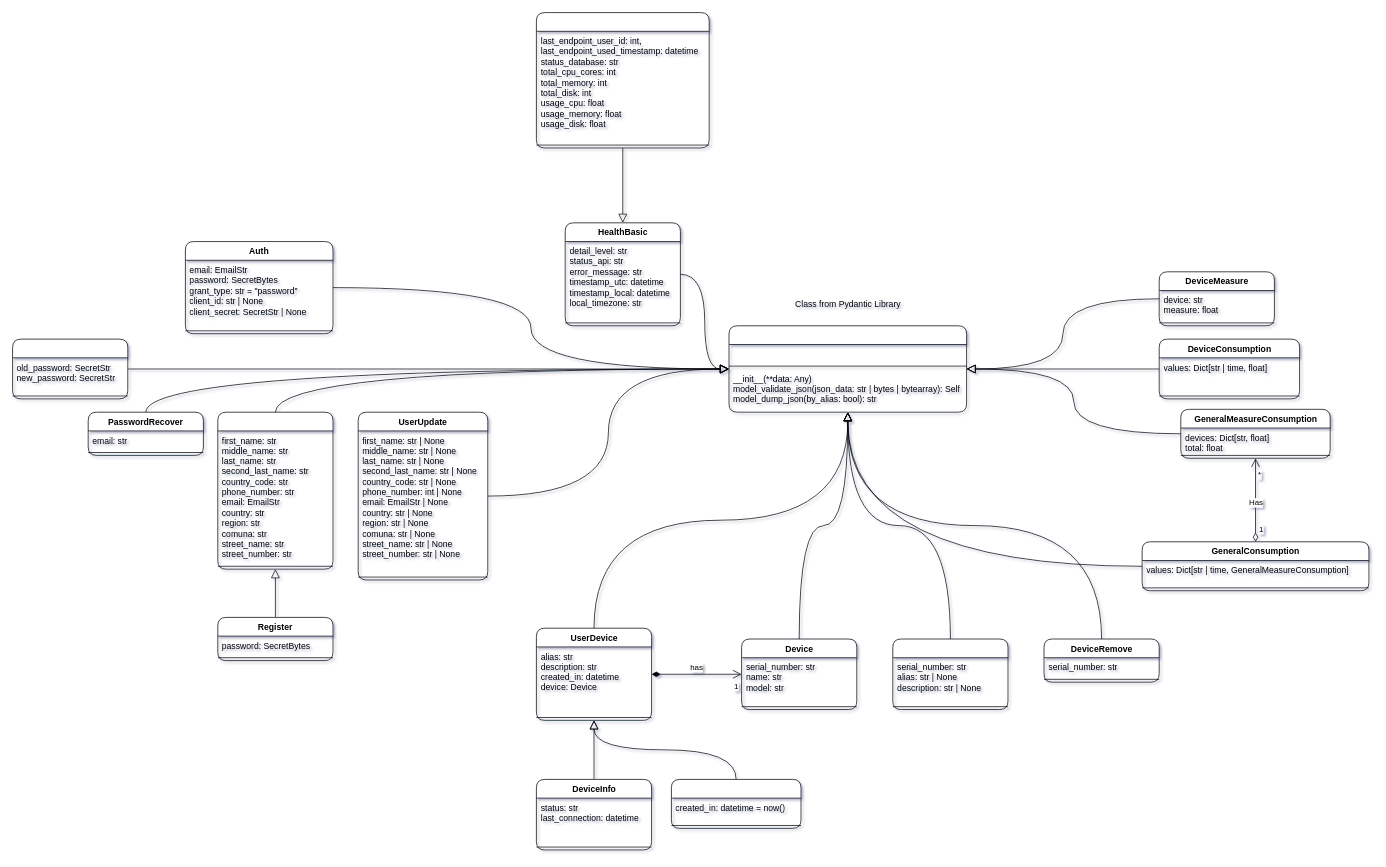
Some shapes in this 1386 by 867 pixel diagram are drawn without their labels. Here are the shapes that lost their labels. From the top down, the box of each, then its label:
(536, 12, 709, 148): HealthFull
(12, 338, 128, 399): PasswordChange
(728, 325, 967, 412): BaseModel
(217, 411, 333, 569): User
(892, 638, 1008, 710): DeviceUpdate
(671, 779, 801, 828): DeviceAdd
